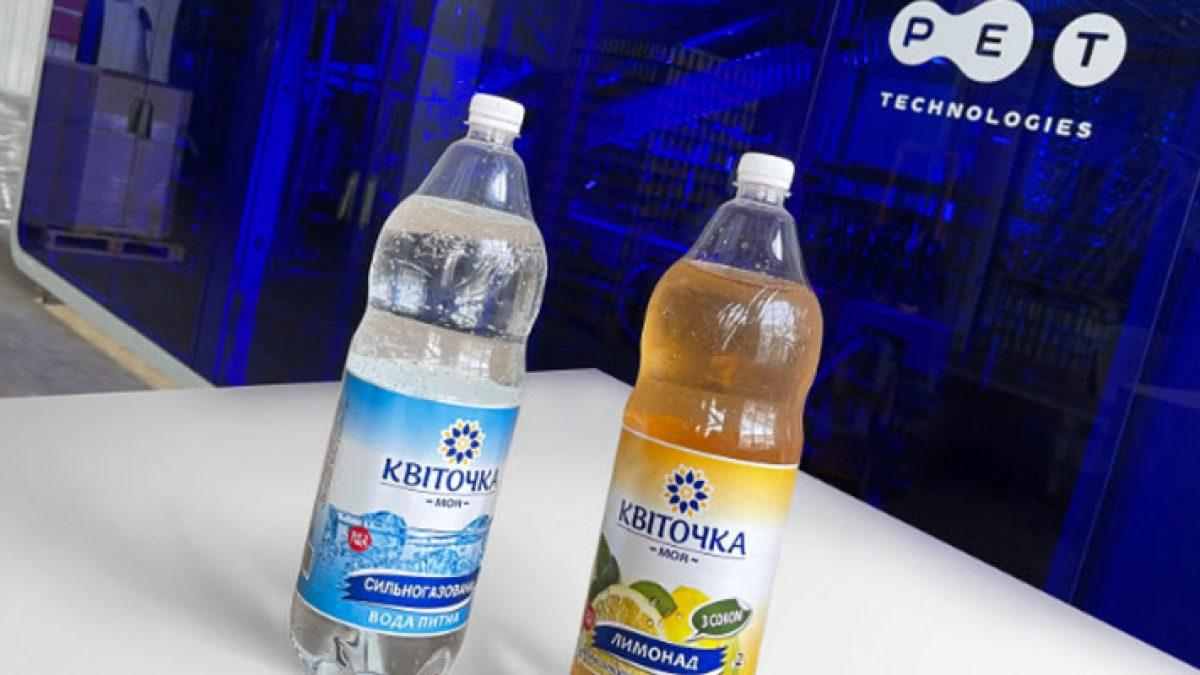paper: (272, 78, 589, 675), (568, 136, 860, 675)
